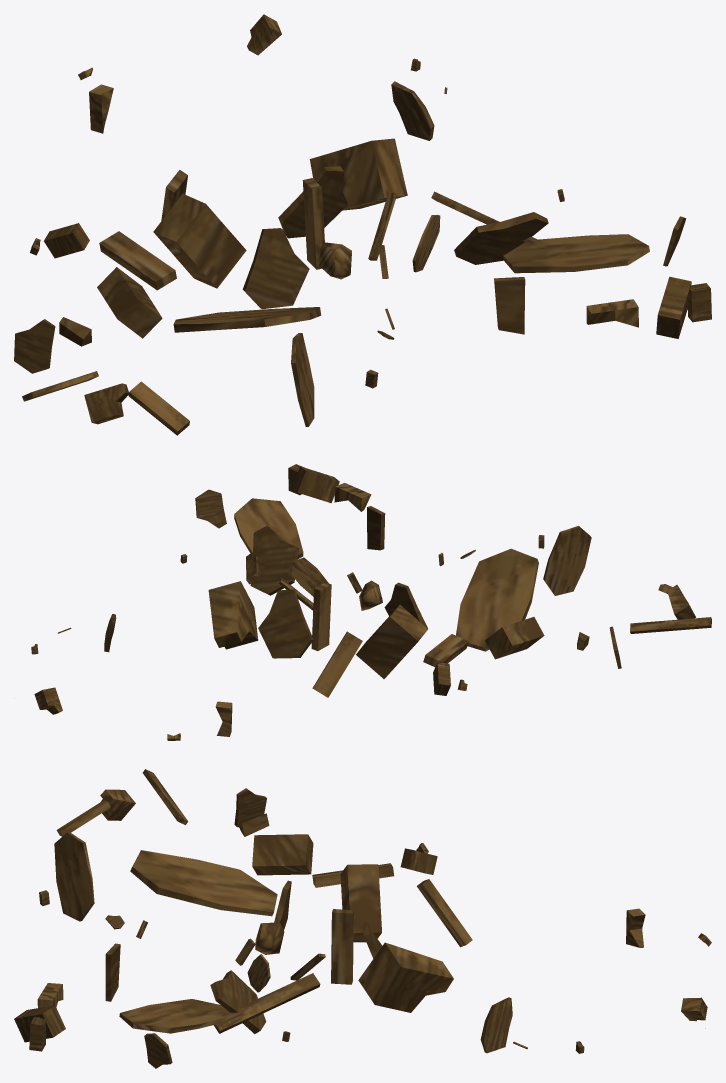
File: SM_DebrisPile1.fbx
The picture shows the model from 3 angles, top to bottom: view 1: azimuth 30°, elevation 25°; view 2: azimuth 150°, elevation 25°; view 3: azimuth 270°, elevation 25°; orthographic projection. The views are drawn at different scales.
Visible parts, largest first — view 1: SM_DebrisPile1; view 2: SM_DebrisPile1; view 3: SM_DebrisPile1.
Part boxes in pixels (box(x1,y1,x2,y2)): SM_DebrisPile1: box(14, 14, 711, 435); SM_DebrisPile1: box(31, 464, 711, 740); SM_DebrisPile1: box(14, 769, 711, 1068).
Size of the model in its own units: 187 by 24.45 by 196.
